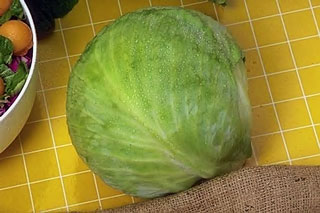cabbage: (64, 5, 254, 197)
